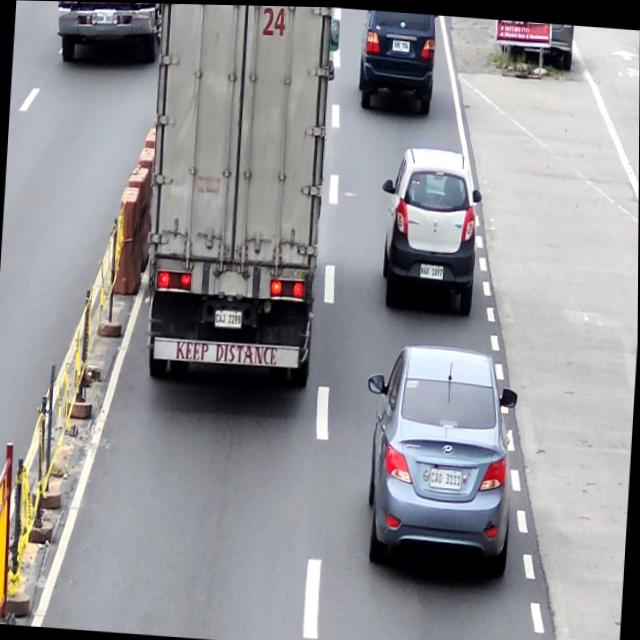Car: (358, 339, 523, 578), (374, 146, 484, 319), (357, 8, 438, 117)
License-Plate: (430, 464, 462, 489), (213, 310, 243, 328), (420, 263, 445, 278), (391, 36, 411, 51)
Truck: (140, 2, 342, 396)
